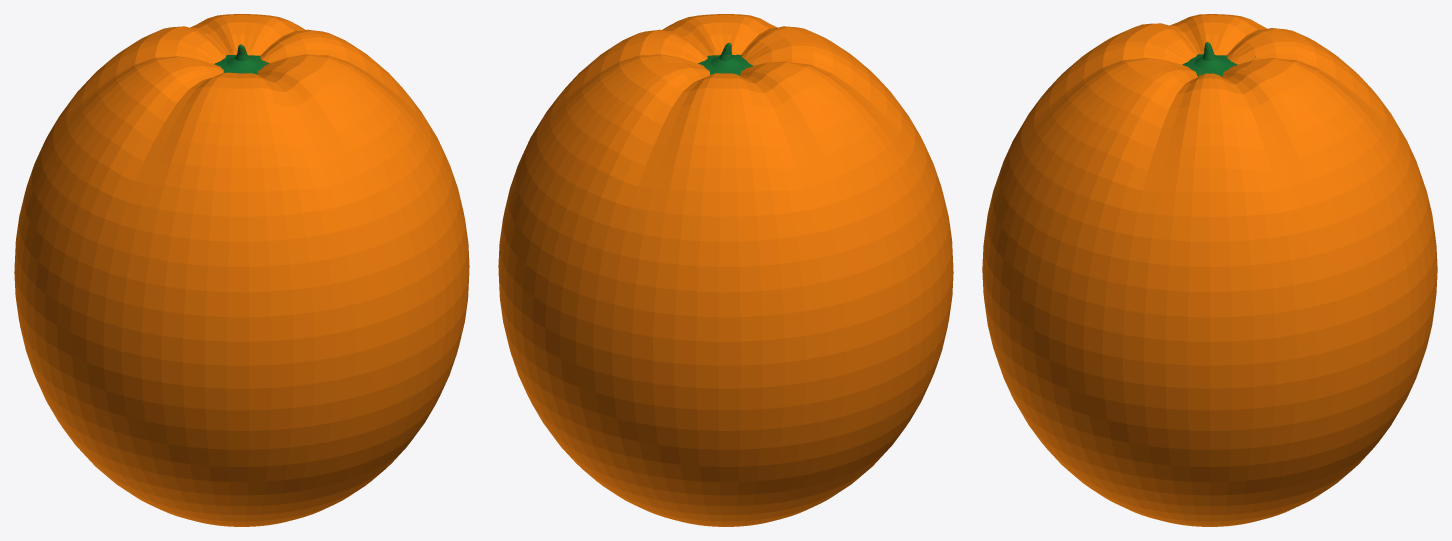
Rendered from grapefruit-t-b.glb.
The picture shows the model from 3 angles, left to right: view 1: azimuth 30°, elevation 25°; view 2: azimuth 150°, elevation 25°; view 3: azimuth 270°, elevation 25°; orthographic projection.
Parts seen in each view (by area): view 1: grapefruit; view 2: grapefruit; view 3: grapefruit.
Part boxes in pixels (x1,y1,x2,y2): grapefruit: (14, 14, 469, 526); grapefruit: (498, 14, 953, 526); grapefruit: (982, 14, 1437, 526).
Size of the model in its own units: 0.0296 by 0.0335 by 0.0296.
1 material, 1 textured.
